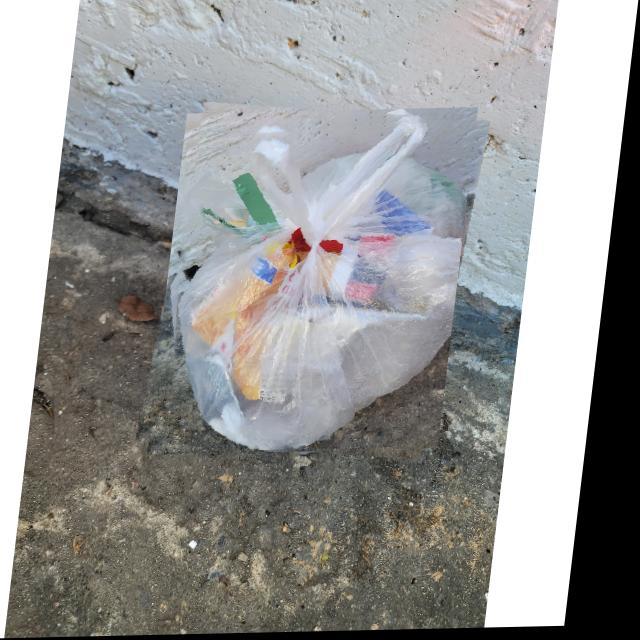other_trashbag: (183, 121, 471, 452)
